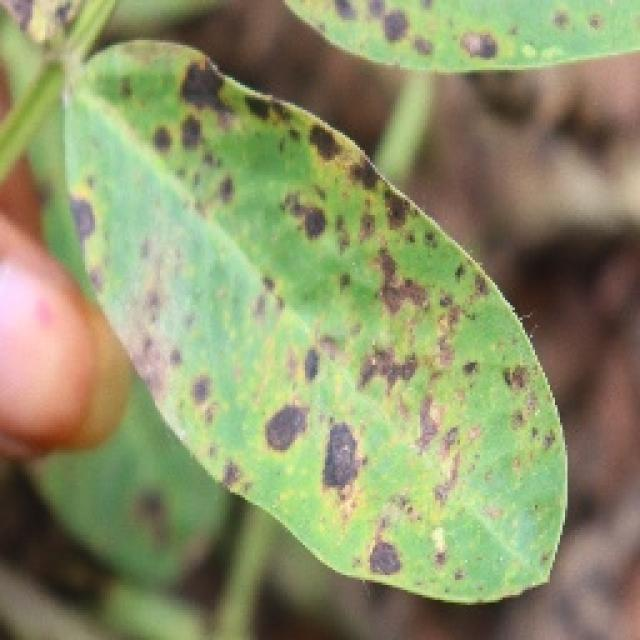Yellowish: (32, 0, 638, 608)
